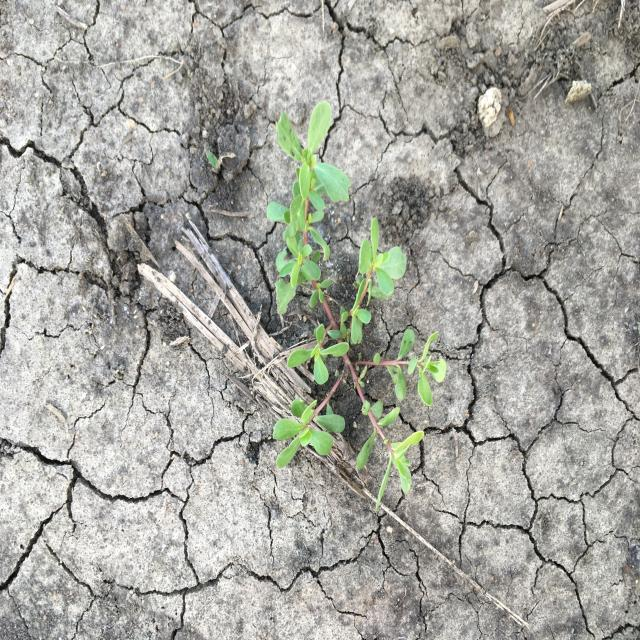Purslane: (264, 100, 449, 516)
